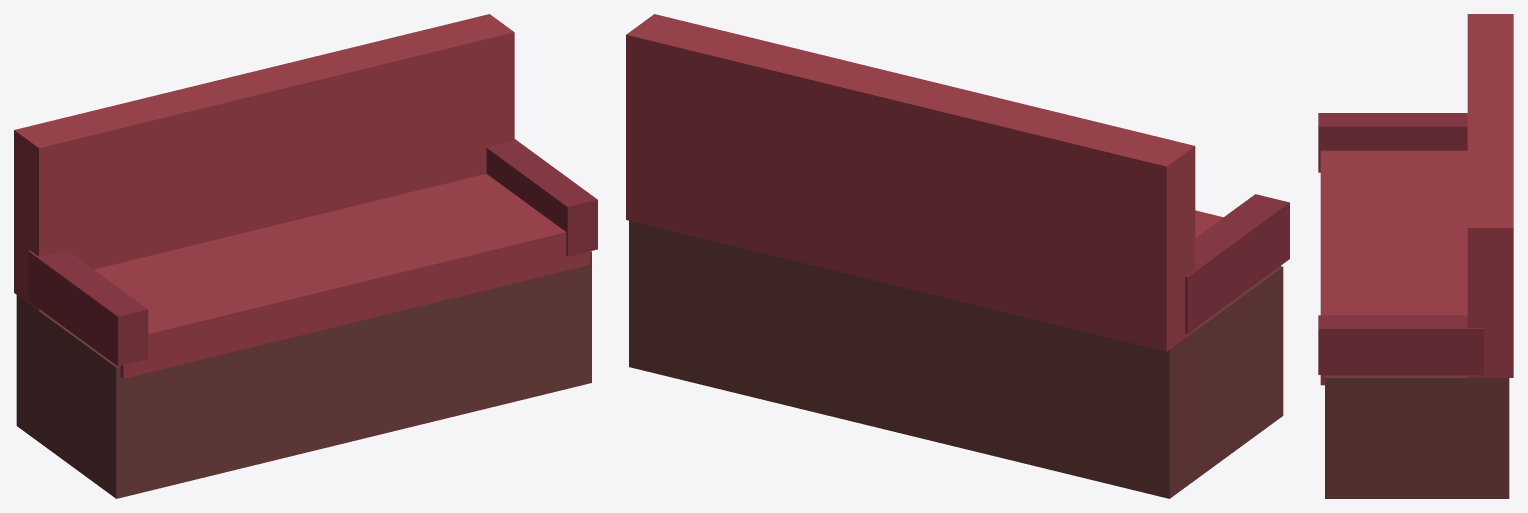
The model's file is PZ_Booth.glb.
3 renders of one model, left to right at view 1: azimuth 30°, elevation 25°; view 2: azimuth 150°, elevation 25°; view 3: azimuth 270°, elevation 25°, orthographic. The views are drawn at different scales.
Visible parts, largest first — view 1: PZ_Booth; view 2: PZ_Booth; view 3: PZ_Booth.
Part boxes in pixels (x1,y1,x2,y2): PZ_Booth: [14, 14, 597, 498]; PZ_Booth: [626, 14, 1289, 498]; PZ_Booth: [1318, 14, 1513, 498].
Size of the model in its own units: 11.1 by 6.5 by 4.25.
1 material, 1 textured.
